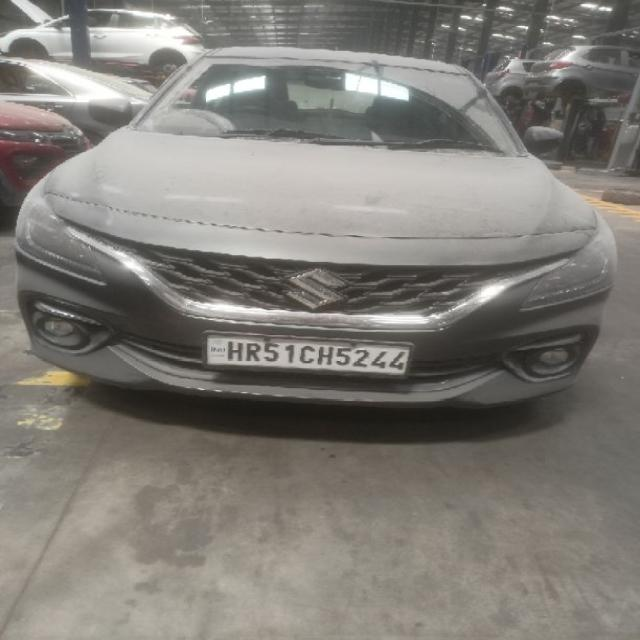license_plate: (200, 331, 414, 380)
